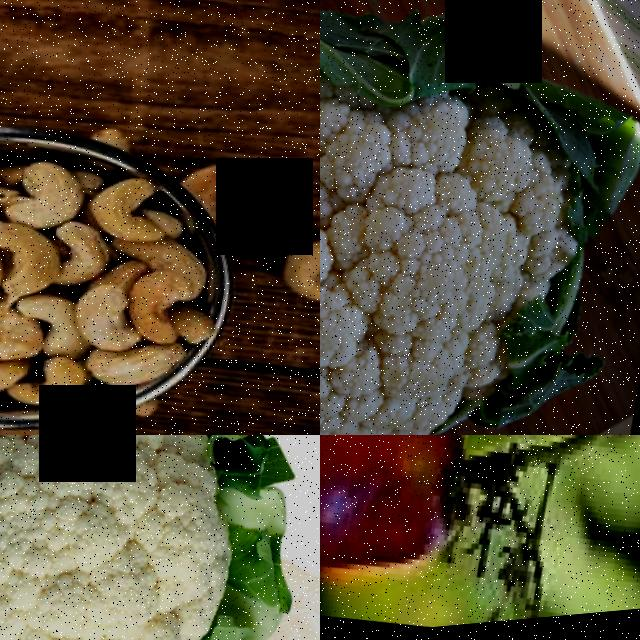cashew: (253, 218, 320, 368), (88, 159, 166, 266), (65, 277, 139, 374), (200, 164, 263, 276), (0, 221, 69, 319), (6, 166, 86, 248), (94, 130, 136, 162), (64, 421, 147, 435)
cauliflower: (320, 0, 621, 435), (0, 435, 320, 640)
